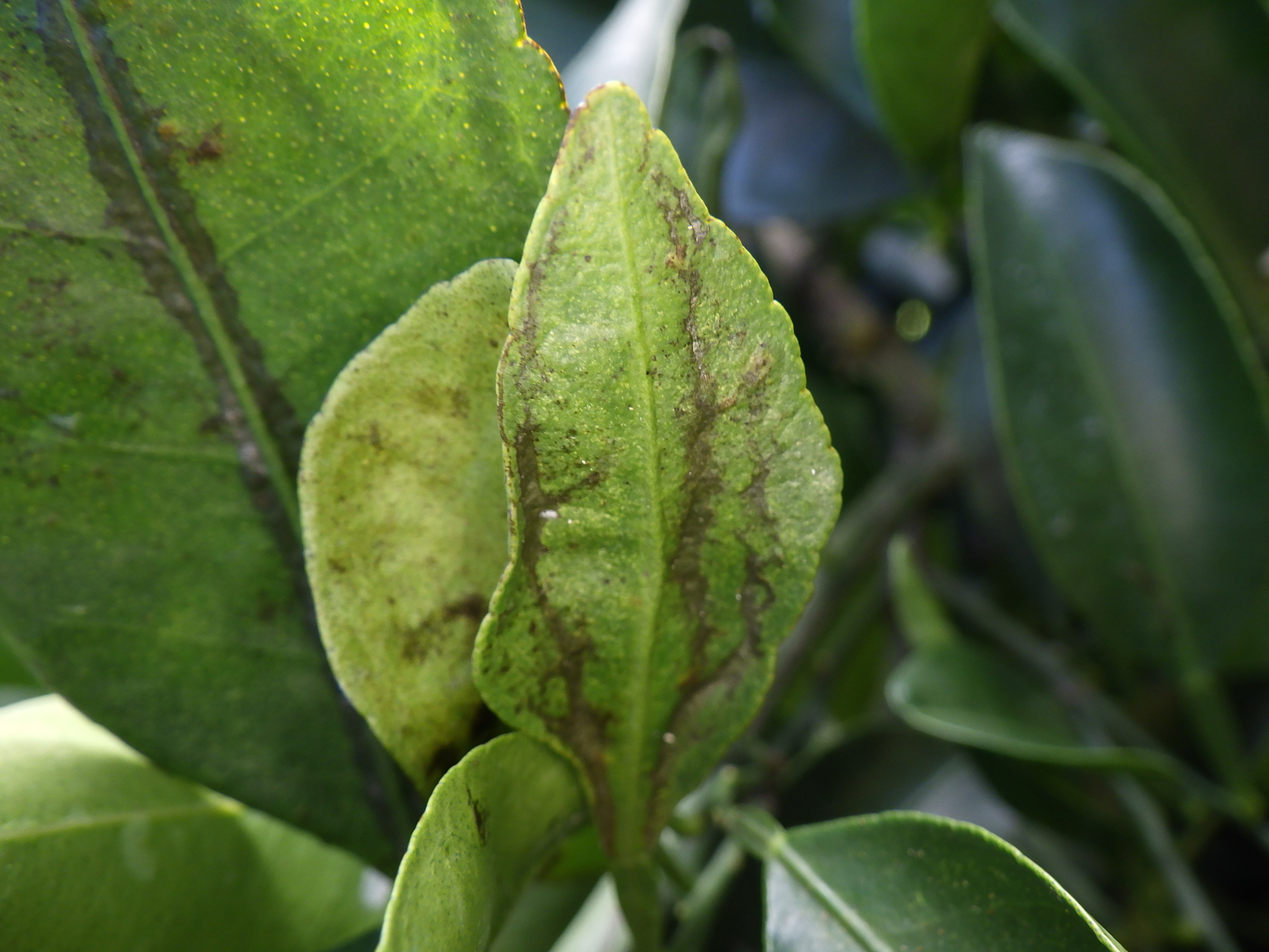Thrips_Damage: (516, 271, 774, 847)
